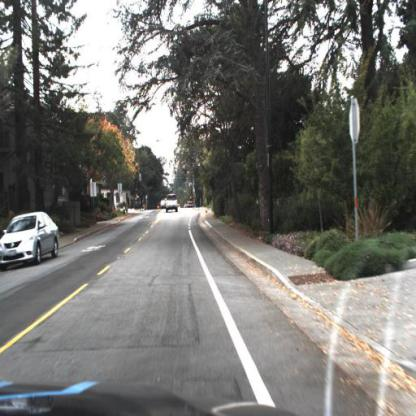car: (1, 213, 61, 273), (167, 193, 180, 216)
